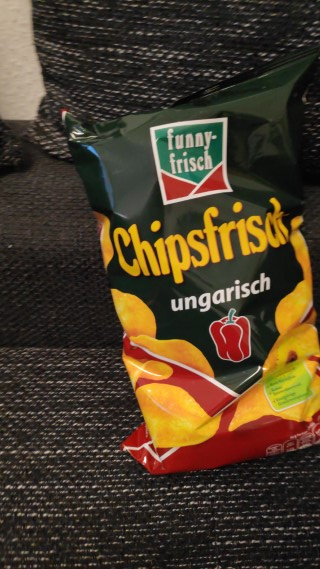chipsfrisch: (57, 47, 320, 478)
